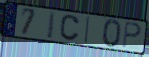7: (20, 7, 38, 36)
C: (59, 14, 81, 43)
I: (46, 11, 57, 40), (83, 15, 91, 45)
O: (102, 19, 123, 50)
P: (121, 21, 143, 50)
